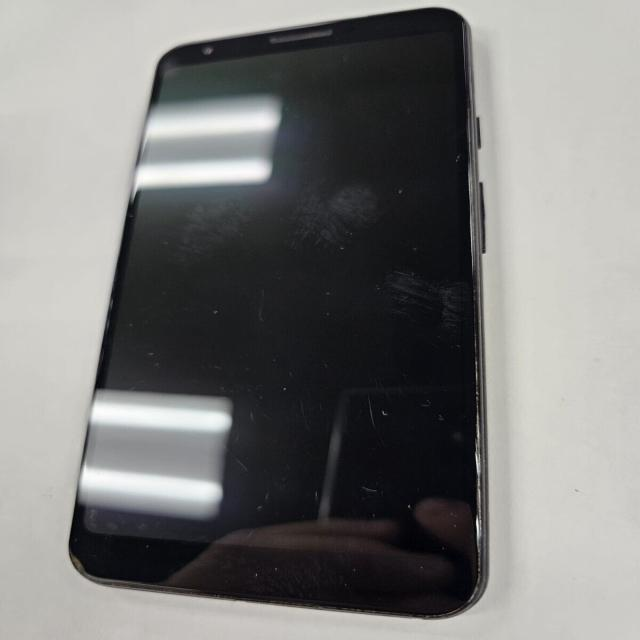Scratches: (207, 440, 258, 481), (358, 395, 380, 440), (357, 482, 384, 507)
